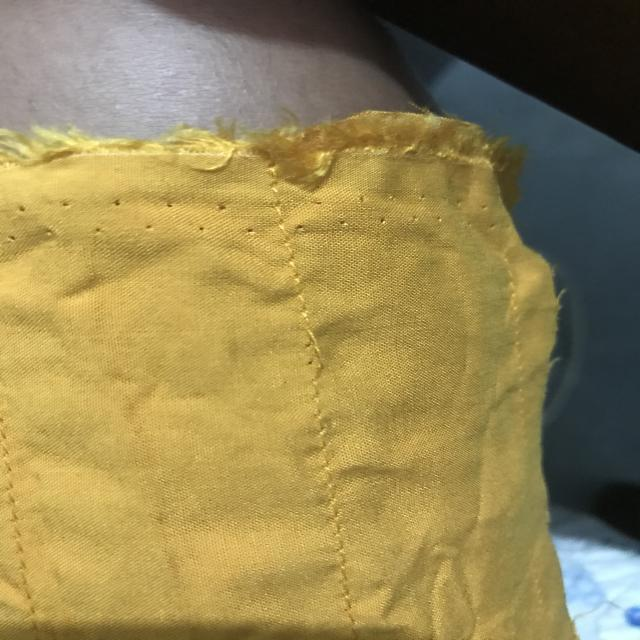skip: (293, 319, 341, 396)
